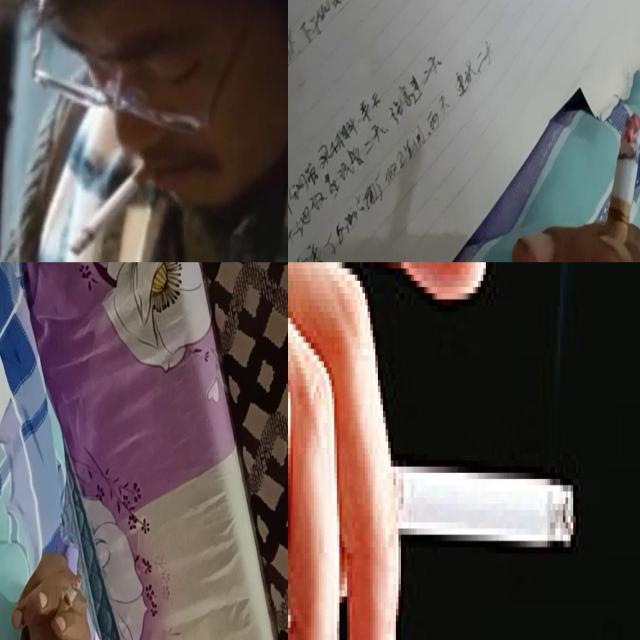smoking: (332, 457, 574, 548), (68, 152, 160, 258), (588, 112, 640, 262), (49, 574, 82, 633)
